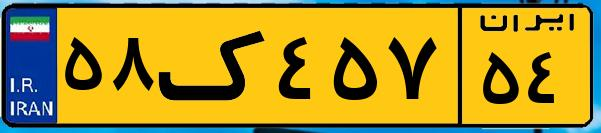4: (270, 28, 330, 110), (525, 38, 570, 115)
5: (330, 28, 385, 110), (57, 26, 110, 100), (475, 38, 525, 113)
7: (385, 28, 445, 110)
8: (110, 28, 158, 98)
ک: (158, 12, 270, 120)
